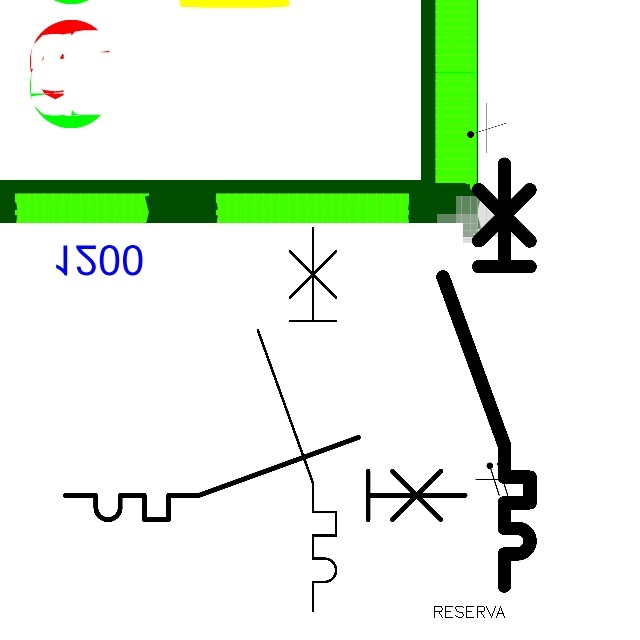interruptor_termomagnetico: (432, 153, 541, 597), (55, 427, 475, 530), (248, 218, 346, 621)
